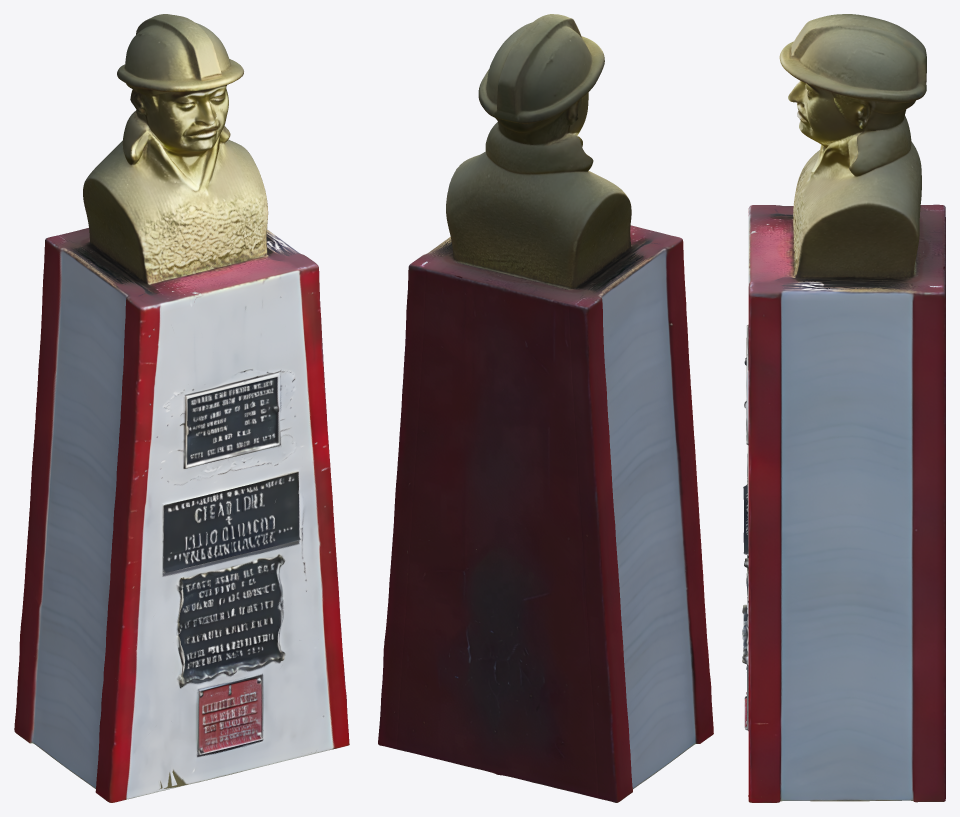
Rendered from estatua.glb.
3 renders of one model, left to right at view 1: azimuth 30°, elevation 25°; view 2: azimuth 150°, elevation 25°; view 3: azimuth 270°, elevation 25°, orthographic.
Parts seen in each view (by area): view 1: model; view 2: model; view 3: model.
Boxes of the visible parts, x1,y1,x2,y2 form: model: (14, 14, 349, 802); model: (378, 14, 713, 802); model: (742, 14, 945, 802).
Bounding box in the file's own units: 0.6657 × 1.89 × 0.4811.
Materials: 1 (1 with a texture image).
